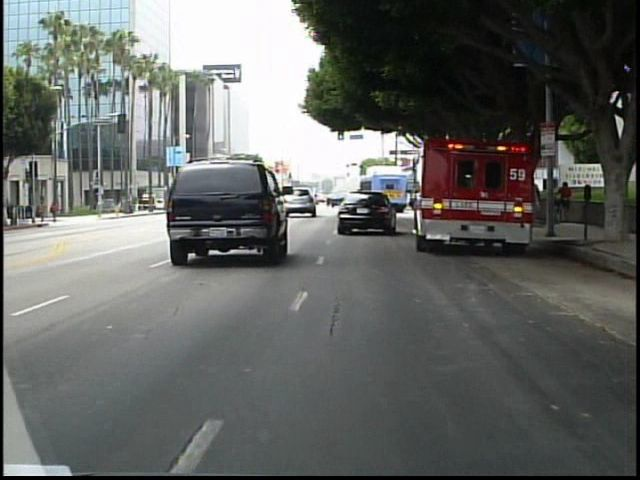person: (554, 178, 573, 226), (51, 198, 64, 224), (39, 200, 50, 224)
